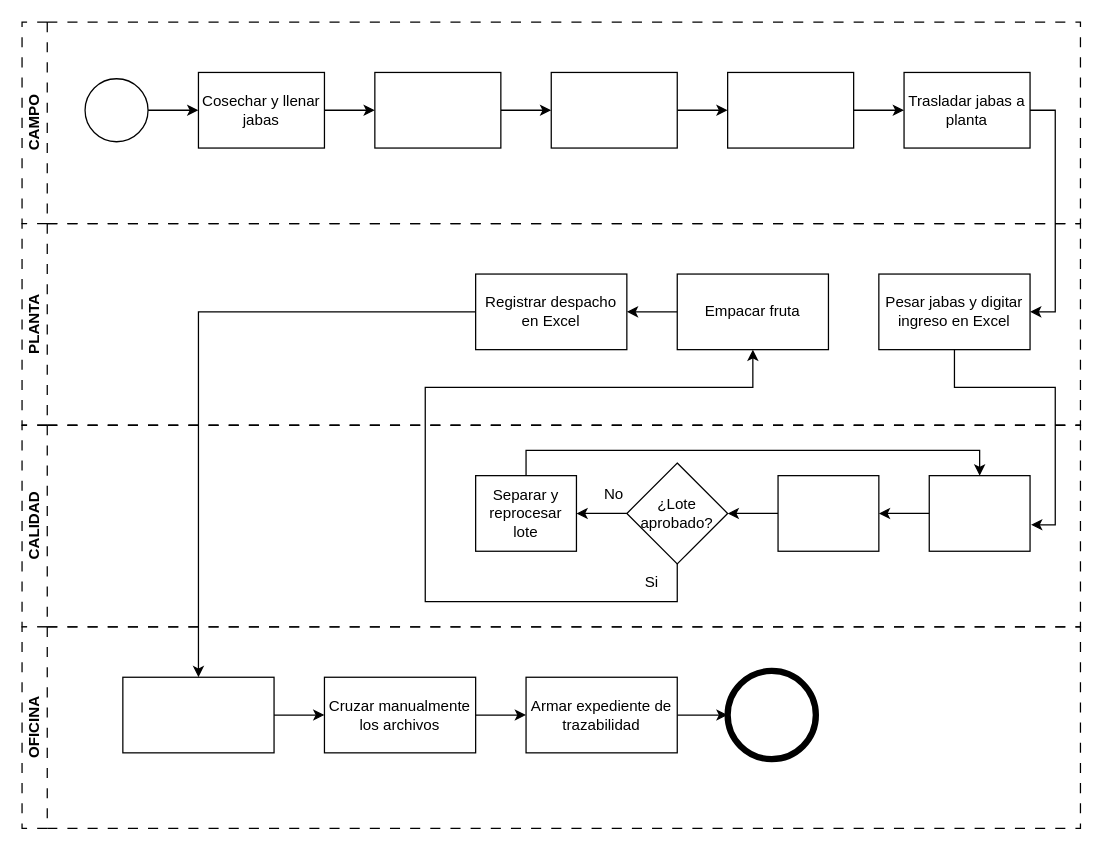
This 1103x851 diagram has some shape labels left out. Here are the shapes that lost their labels. From the top down, the centre of each, then its label:
At pixel 437 109: "Anotar cantidad, lote y hora".
At pixel 613 109: "Fotografiar hoja del cuaderno".
At pixel 790 109: "Enviar fotografia por WhatsApp".
At pixel 828 512: "Registrar resultado en Excel".
At pixel 979 512: "Revisar muestra del lote".
At pixel 198 714: "Solicitar los tres archivos".
At pixel 771 714: "Expediente listo".
